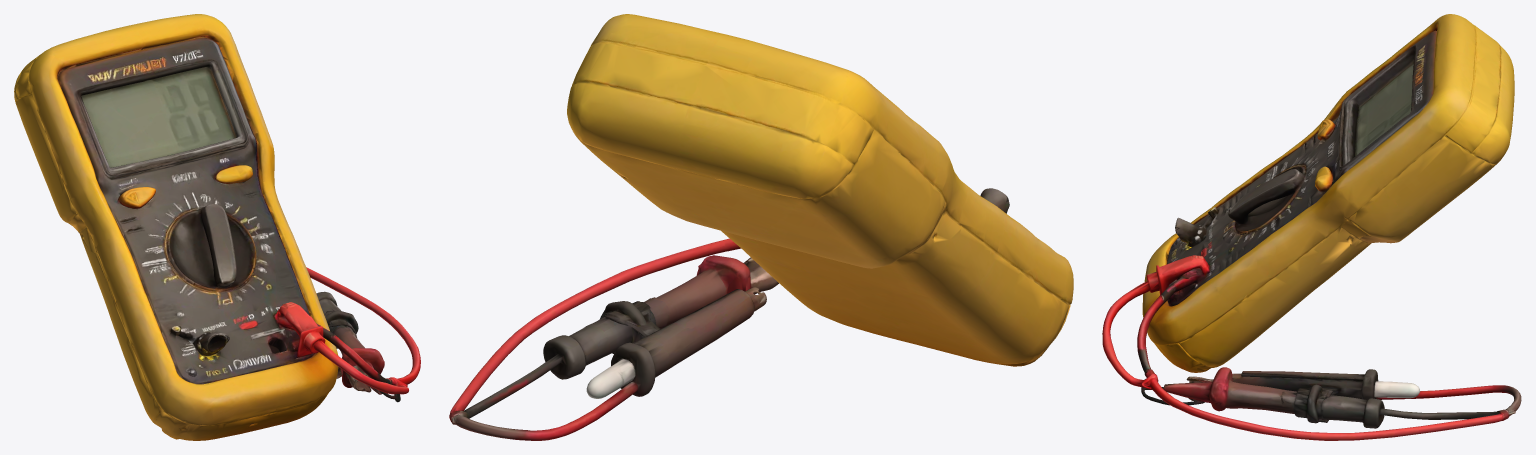
File: multimeter.glb
The picture shows the model from 3 angles, left to right: view 1: azimuth 30°, elevation 25°; view 2: azimuth 150°, elevation 25°; view 3: azimuth 270°, elevation 25°; orthographic projection. The views are drawn at different scales.
Visible parts, largest first — view 1: node_57e324ce-2add-447b-8e70-d93b6600e5bf; view 2: node_57e324ce-2add-447b-8e70-d93b6600e5bf; view 3: node_57e324ce-2add-447b-8e70-d93b6600e5bf.
Part boxes in pixels (left/top/right/bottom): node_57e324ce-2add-447b-8e70-d93b6600e5bf: left=14, top=14, right=420, bottom=440; node_57e324ce-2add-447b-8e70-d93b6600e5bf: left=449, top=14, right=1073, bottom=440; node_57e324ce-2add-447b-8e70-d93b6600e5bf: left=1102, top=14, right=1521, bottom=440.
Bounding box in the file's own units: 0.8208 × 0.7865 × 0.9794.
Materials: 1 (1 with a texture image).
